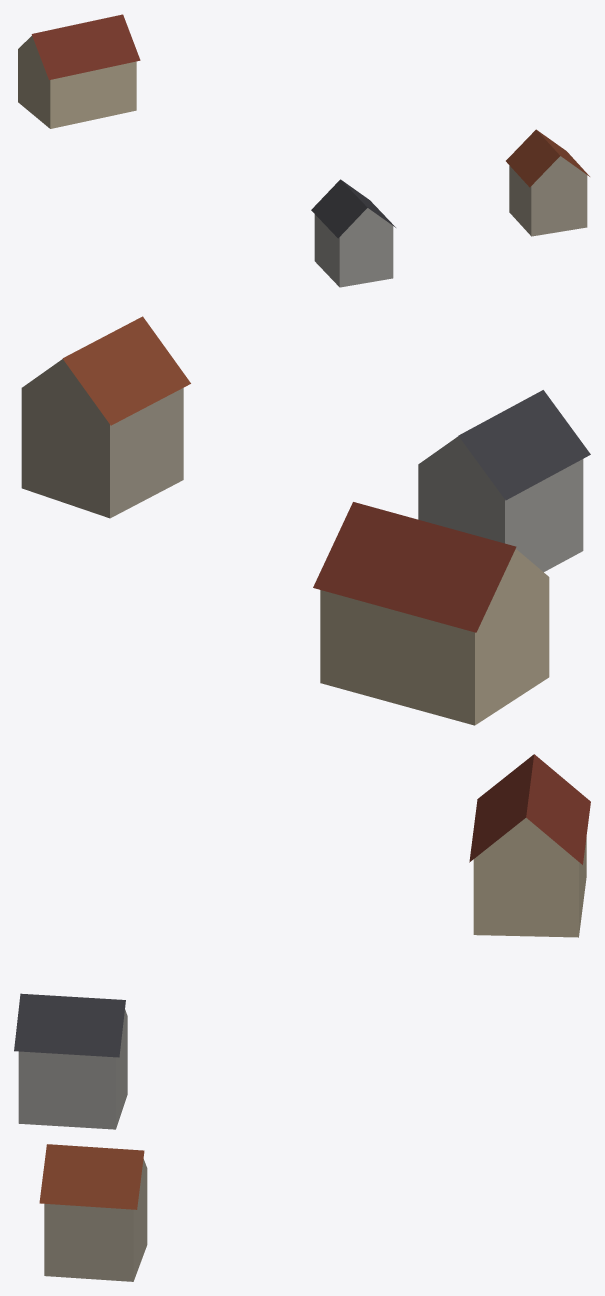
3 renders of one model, top to bottom at view 1: azimuth 30°, elevation 25°; view 2: azimuth 150°, elevation 25°; view 3: azimuth 270°, elevation 25°, orthographic. The views are drawn at different scales.
Visible parts, largest first — view 1: buildings; view 2: buildings; view 3: buildings.
Part boxes in pixels (bbox=[...]): buildings: bbox=[18, 14, 589, 287]; buildings: bbox=[21, 316, 590, 725]; buildings: bbox=[14, 754, 590, 1281].
Size of the model in its own units: 48.52 by 19.17 by 41.14.
